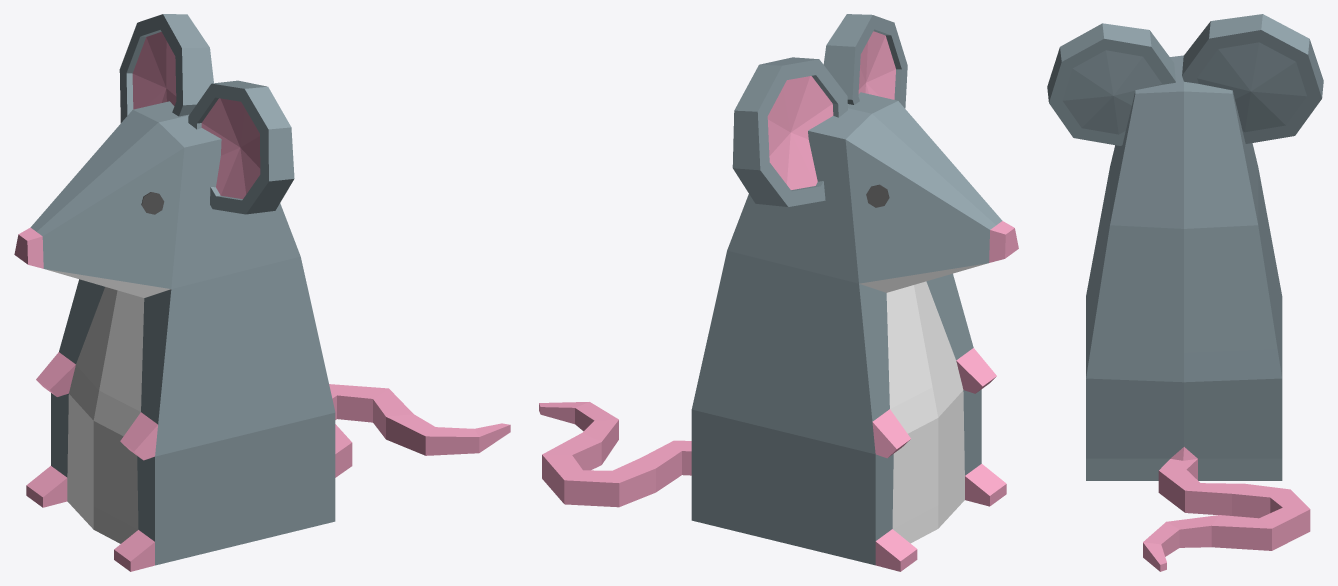
File: Mouse_01.gltf
3 renders of one model, left to right at view 1: azimuth 30°, elevation 25°; view 2: azimuth 150°, elevation 25°; view 3: azimuth 270°, elevation 25°, orthographic. The views are drawn at different scales.
Visible parts, largest first — view 1: node-0; view 2: node-0; view 3: node-0.
Boxes of the visible parts, x1,y1,x2,y2 form: node-0: [14, 14, 510, 571]; node-0: [539, 14, 1018, 571]; node-0: [1047, 14, 1323, 571].
Size of the model in its own units: 208 by 191 by 111.
